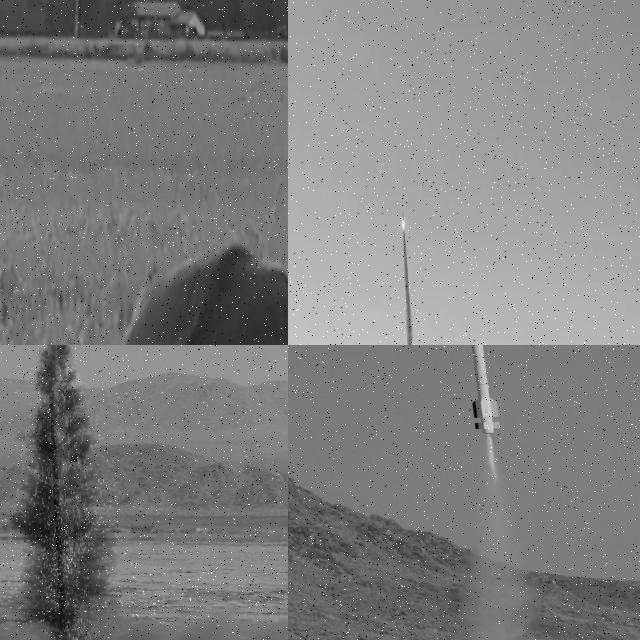Rocket: (466, 345, 502, 436), (402, 208, 405, 222)
